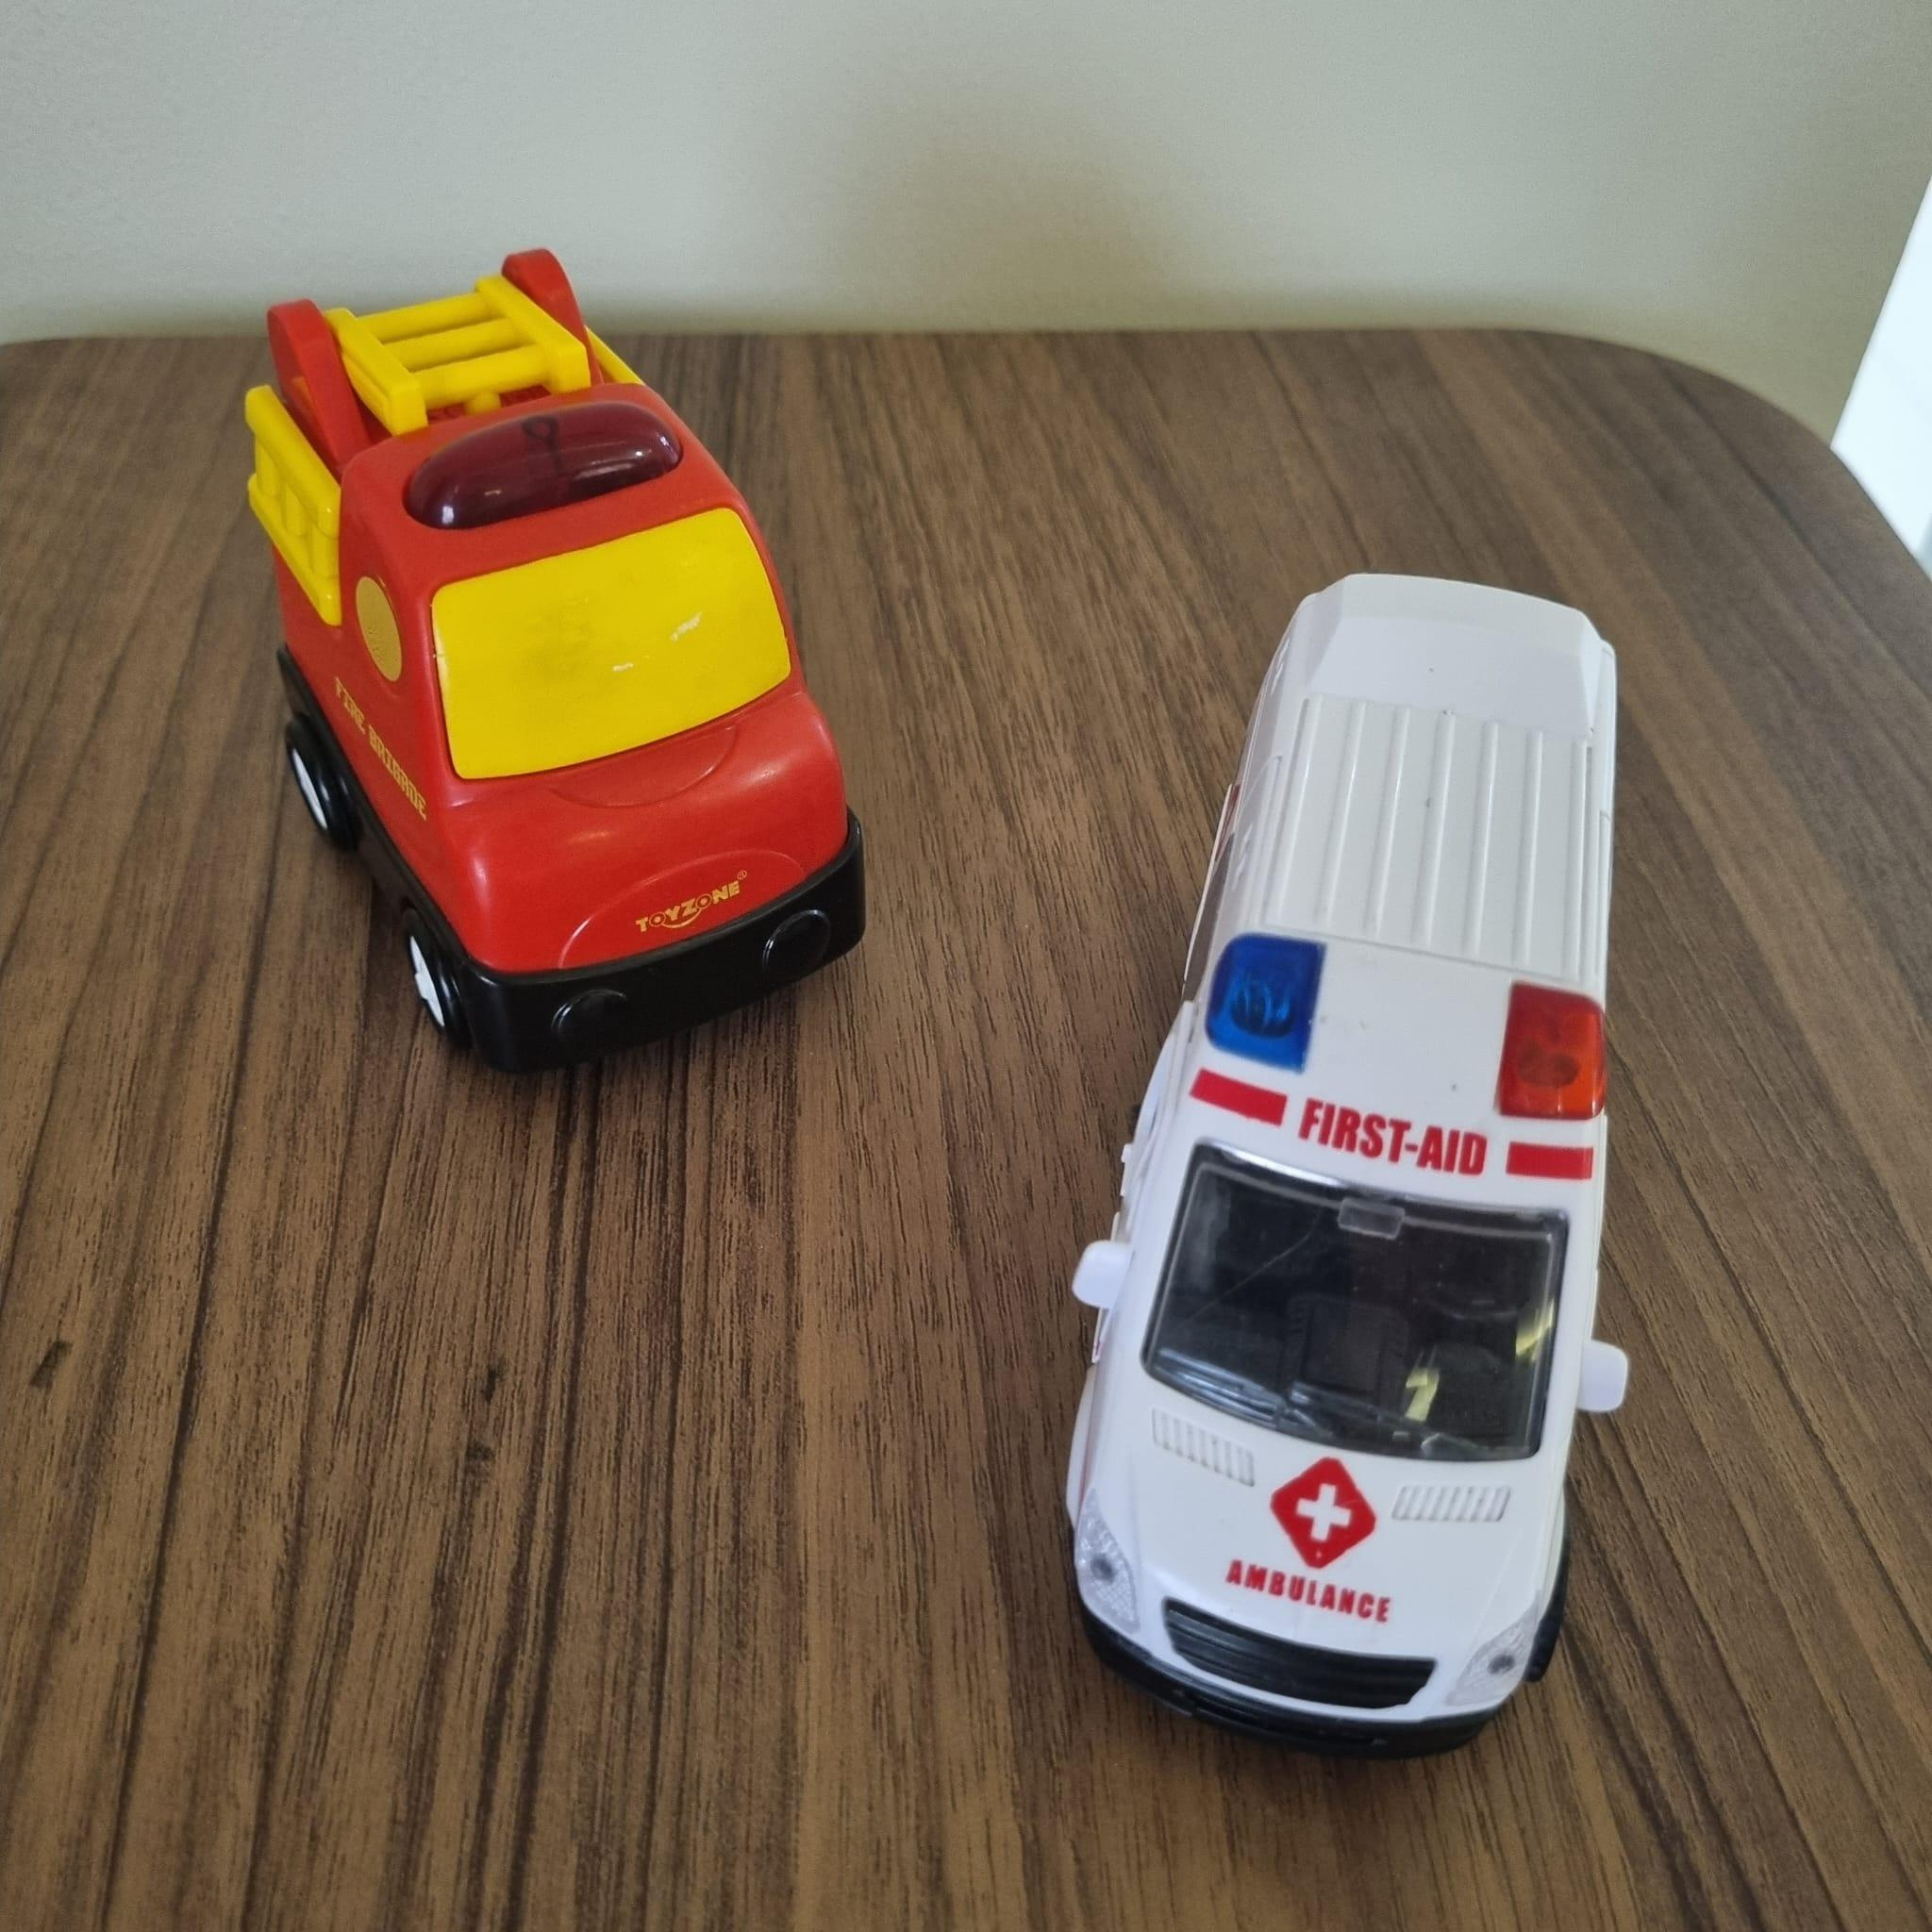ambulance_off: (1062, 568, 1638, 1760)
firetruck_off: (241, 244, 872, 1074)
